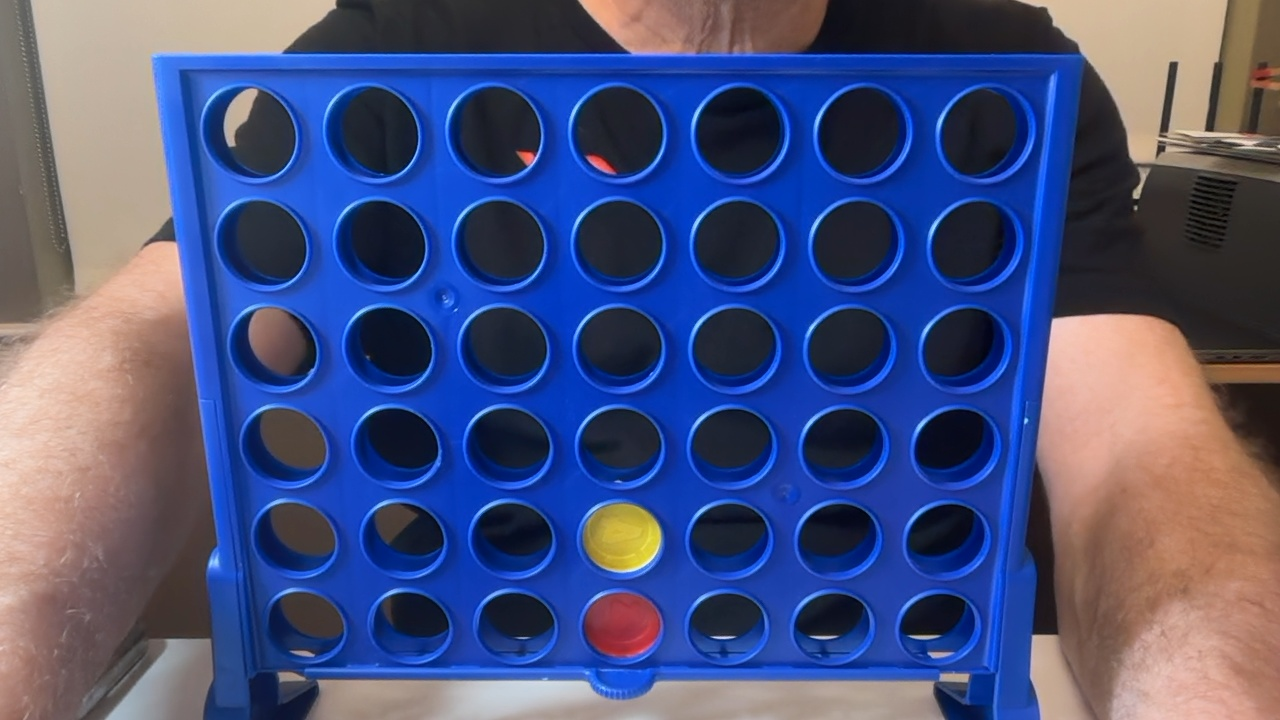red piece: (584, 593, 661, 658)
yellow piece: (582, 503, 661, 573)
